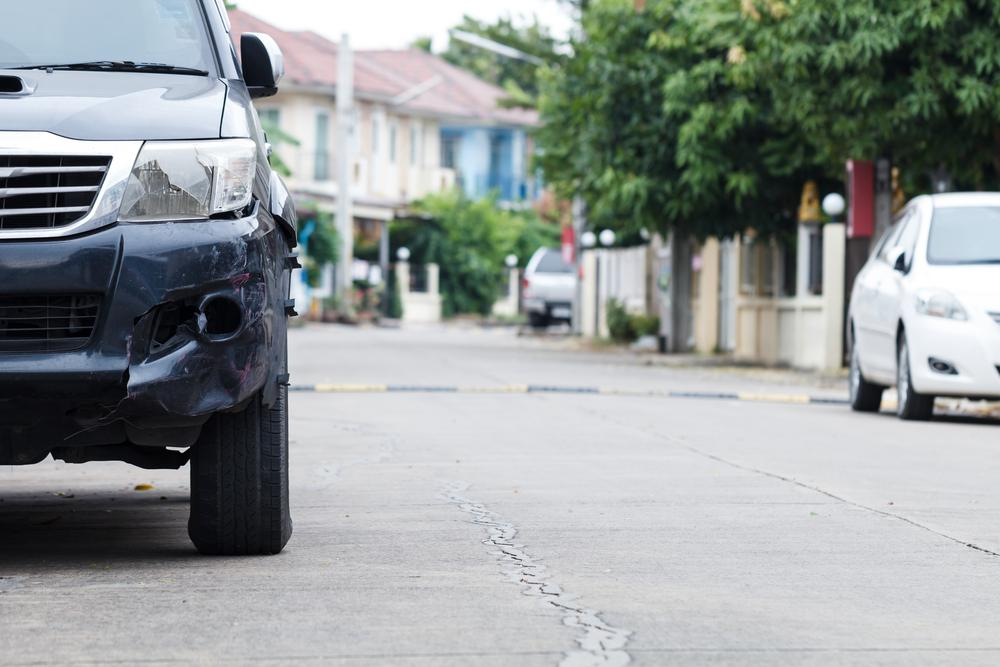crack: (77, 362, 134, 426), (130, 301, 170, 327)
dent: (165, 349, 245, 416)
lamp broken: (115, 139, 258, 222)
